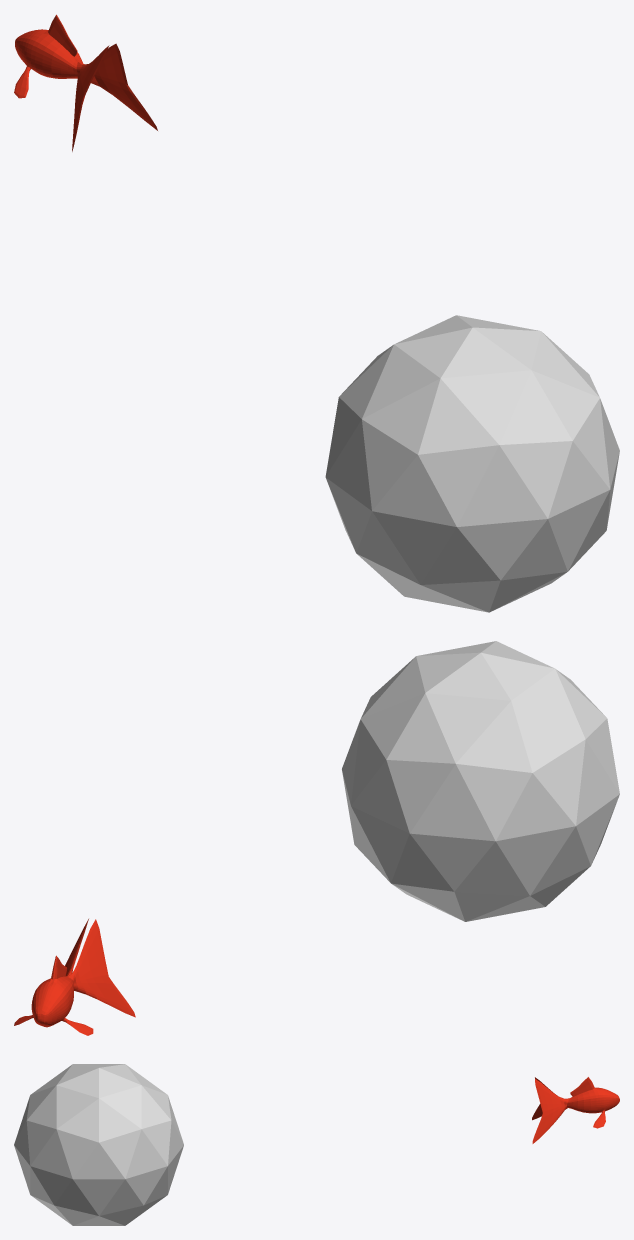
File: Bubble.fbx
The picture shows the model from 3 angles, top to bottom: view 1: azimuth 30°, elevation 25°; view 2: azimuth 150°, elevation 25°; view 3: azimuth 270°, elevation 25°; orthographic projection. The views are drawn at different scales.
Parts seen in each view (by area): view 1: Icosphere, fishh.005; view 2: Icosphere, fishh.005; view 3: Icosphere, fishh.005.
Boxes of the visible parts, box(x1,y1,x2,y2) form: Icosphere: box(325, 315, 619, 612); fishh.005: box(14, 14, 157, 151); Icosphere: box(342, 641, 619, 921); fishh.005: box(14, 919, 135, 1035); Icosphere: box(14, 1064, 183, 1225); fishh.005: box(532, 1077, 619, 1143).
Bounding box in the file's own units: 221 × 232 × 826.
